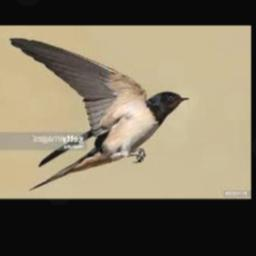Swallow: (9, 37, 190, 190)
